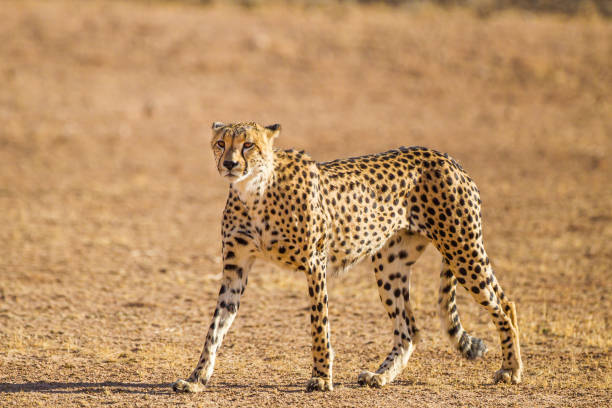cheetah: (194, 112, 287, 186)
